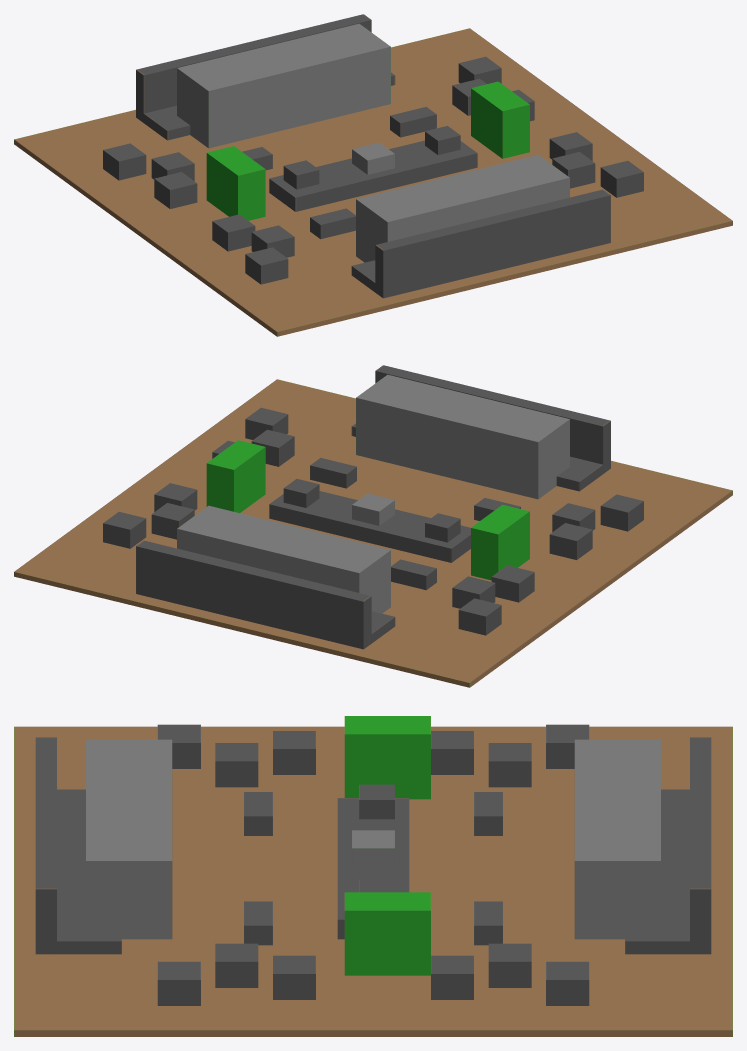
The model's file is fps_stage00.gltf.
The picture shows the model from 3 angles, top to bottom: view 1: azimuth 30°, elevation 25°; view 2: azimuth 150°, elevation 25°; view 3: azimuth 270°, elevation 25°; orthographic projection. The views are drawn at different scales.
Parts seen in each view (by area): view 1: Ground, A_Base_Main, B_Base_BackWall, B_Base_Main, MidPlatform, A_Base_BackWall, MidTower_RightHigh, MidTower_LeftHigh, A_LaneLeft_Cover1, B_LaneLeft_Cover1, A_LaneLeft_Cover3, B_LaneRight_Cover1 (+14 smaller); view 2: Ground, B_Base_Main, A_Base_BackWall, A_Base_Main, MidPlatform, B_Base_BackWall, MidTower_RightHigh, MidTower_LeftHigh, A_LaneLeft_Cover1, B_LaneLeft_Cover1, A_LaneRight_Cover1, B_LaneLeft_Cover3 (+14 smaller); view 3: Ground, A_Base_Main, B_Base_Main, MidTower_RightHigh, MidTower_LeftHigh, B_Base_SpawnPlate, A_Base_SpawnPlate, A_Base_BackWall, B_Base_BackWall, MidPlatform, A_LaneLeft_Cover2, A_LaneRight_Cover1 (+16 smaller).
Boxes of the visible parts, x1,y1,x2,y2 form: Ground: [14, 28, 732, 336]; A_Base_Main: [177, 23, 390, 148]; B_Base_BackWall: [375, 189, 610, 298]; B_Base_Main: [356, 154, 569, 262]; MidPlatform: [269, 140, 477, 211]; A_Base_BackWall: [136, 14, 371, 121]; MidTower_RightHigh: [471, 81, 529, 158]; MidTower_LeftHigh: [206, 146, 265, 220]; A_LaneLeft_Cover1: [103, 143, 146, 180]; B_LaneLeft_Cover1: [245, 247, 288, 284]; A_LaneLeft_Cover3: [154, 172, 197, 208]; B_LaneRight_Cover1: [600, 160, 643, 197]; Ground: [14, 379, 732, 687]; B_Base_Main: [356, 374, 569, 499]; A_Base_BackWall: [136, 540, 371, 649]; A_Base_Main: [177, 505, 390, 613]; MidPlatform: [269, 491, 470, 562]; B_Base_BackWall: [375, 365, 610, 473]; MidTower_RightHigh: [206, 440, 265, 512]; MidTower_LeftHigh: [471, 504, 529, 580]; A_LaneLeft_Cover1: [458, 598, 501, 635]; B_LaneLeft_Cover1: [600, 494, 643, 531]; A_LaneRight_Cover1: [103, 511, 146, 548]; B_LaneLeft_Cover3: [549, 523, 592, 559]; Ground: [14, 726, 732, 1036]; A_Base_Main: [574, 739, 660, 939]; B_Base_Main: [86, 739, 172, 939]; MidTower_RightHigh: [344, 892, 430, 975]; MidTower_LeftHigh: [344, 716, 430, 799]; B_Base_SpawnPlate: [50, 789, 121, 954]; A_Base_SpawnPlate: [625, 789, 696, 954]; A_Base_BackWall: [690, 737, 711, 954]; B_Base_BackWall: [35, 737, 56, 954]; MidPlatform: [337, 798, 409, 939]; A_LaneLeft_Cover2: [488, 743, 531, 787]; A_LaneRight_Cover1: [546, 961, 589, 1005].
Bounding box in the file's own units: 100 × 13 × 100.
